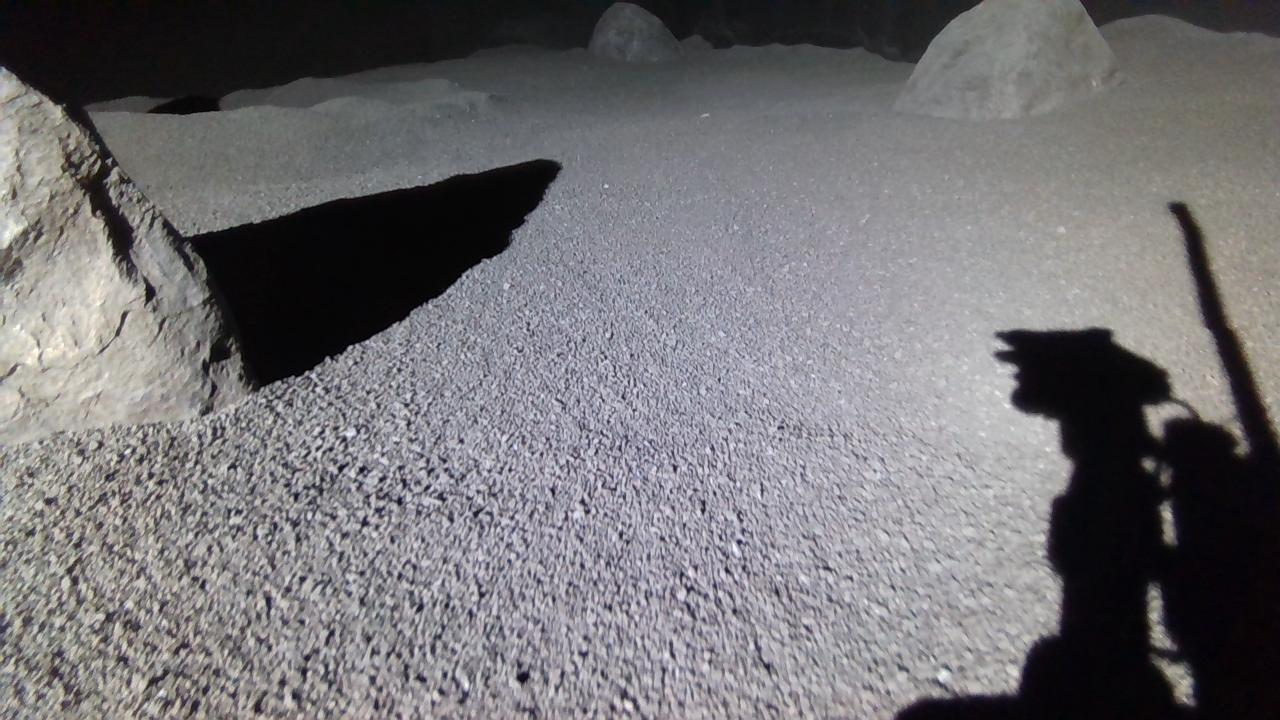rock: (896, 0, 1123, 119), (590, 1, 680, 59)
